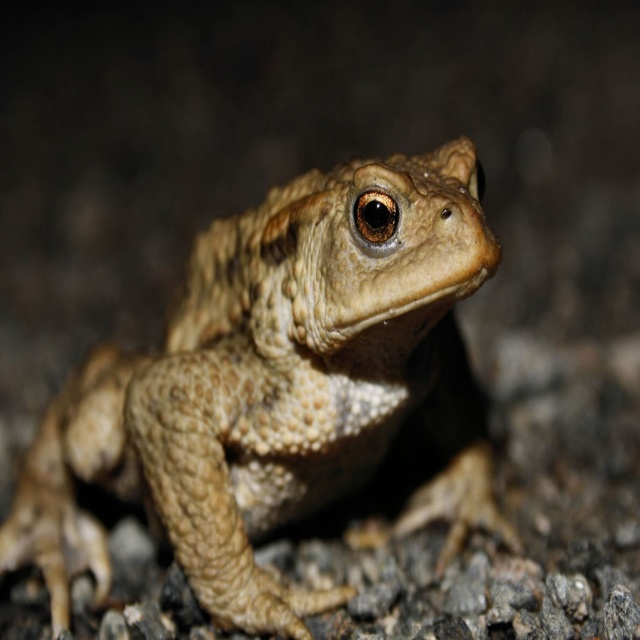Frog: (0, 140, 524, 639)
